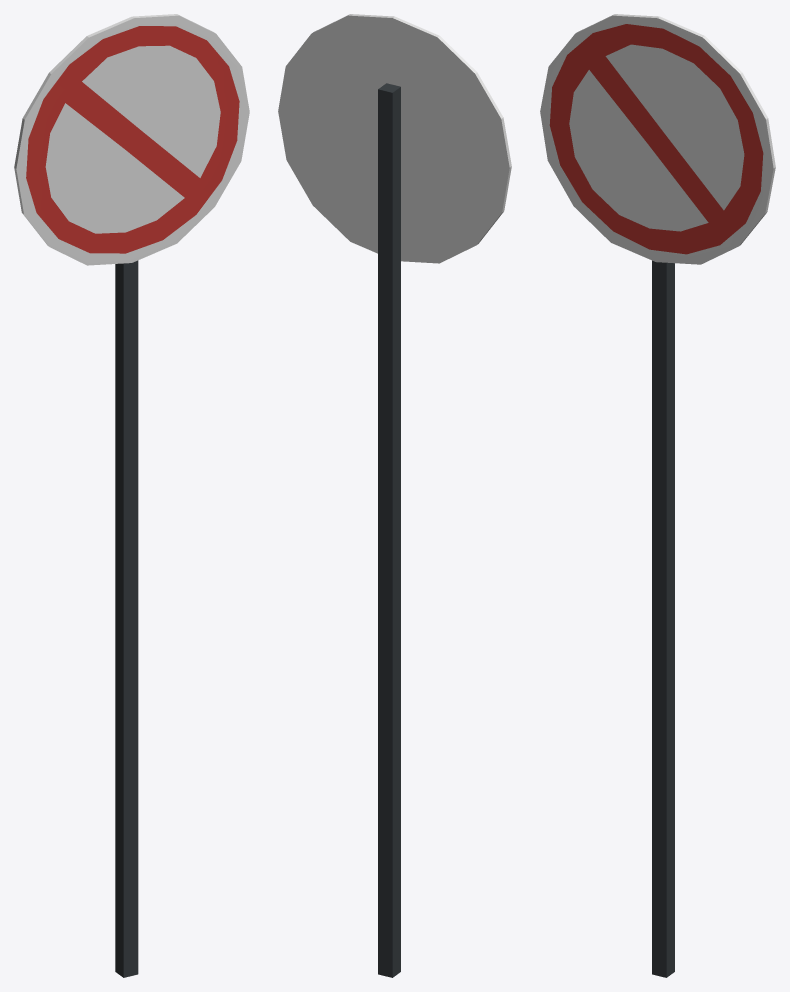
Rendered from SM_FloorProps_RoadSign_09.fbx.
The picture shows the model from 3 angles, left to right: view 1: azimuth 30°, elevation 25°; view 2: azimuth 150°, elevation 25°; view 3: azimuth 330°, elevation 25°; orthographic projection.
Parts seen in each view (by area): view 1: SM_FloorProps_RoadSign_09; view 2: SM_FloorProps_RoadSign_09; view 3: SM_FloorProps_RoadSign_09.
Part boxes in pixels (x1=…): SM_FloorProps_RoadSign_09: x1=14, y1=14, x2=249, y2=977; SM_FloorProps_RoadSign_09: x1=278, y1=14, x2=511, y2=977; SM_FloorProps_RoadSign_09: x1=540, y1=14, x2=775, y2=977.
Size of the model in its own units: 0.6843 by 2.69 by 0.0544.
